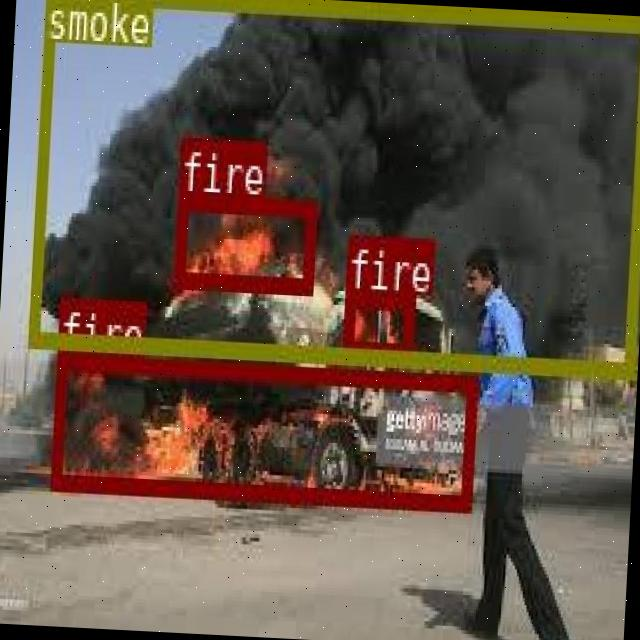fire: (49, 354, 476, 510), (172, 194, 314, 292), (342, 288, 413, 358)
smoke: (28, 0, 640, 373)
